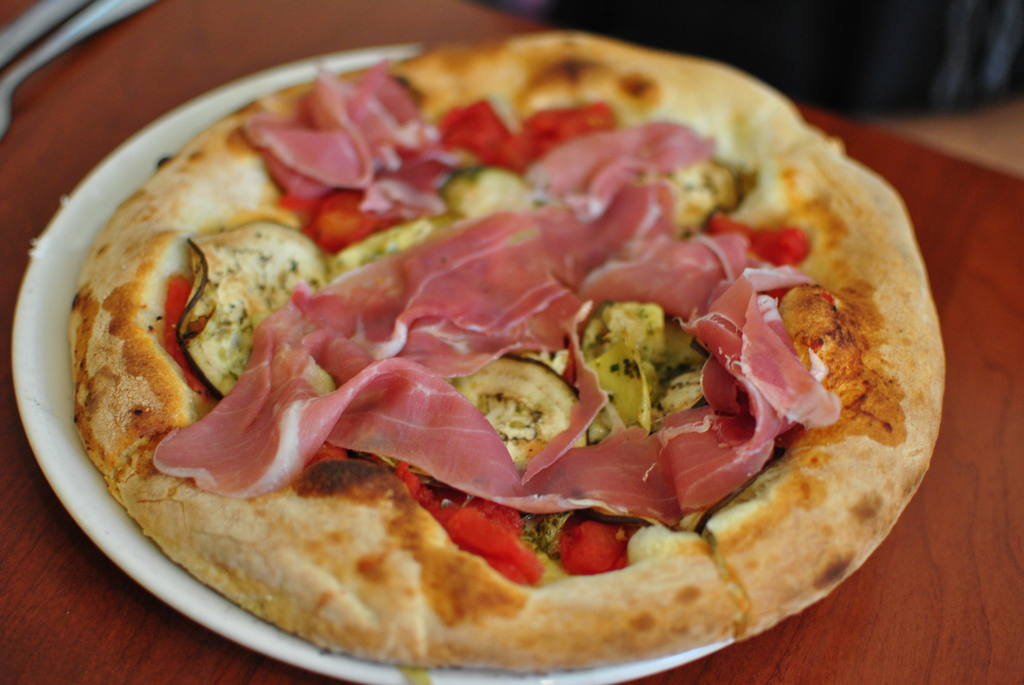Pizza: (51, 32, 963, 672)
